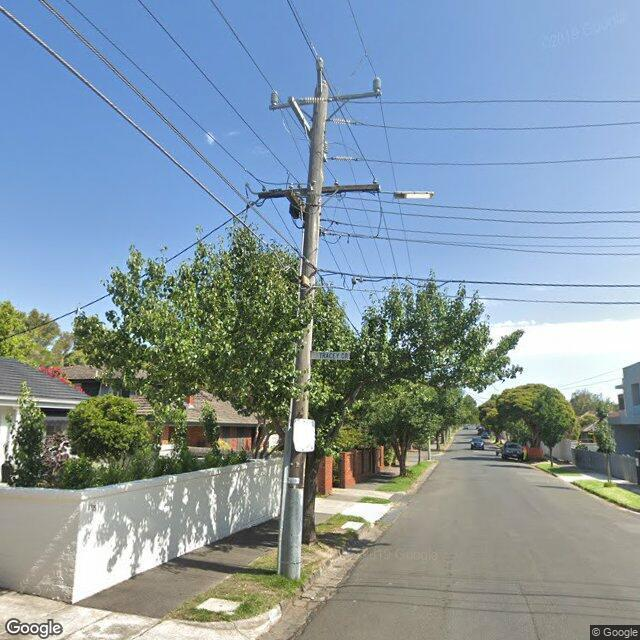HV-transmission: (271, 57, 381, 103), (296, 96, 360, 162)
crossarm: (288, 97, 326, 161), (269, 92, 381, 110), (258, 184, 380, 199), (286, 191, 326, 236)
streetlight: (378, 191, 434, 199)
timber-pole: (278, 82, 329, 580)
